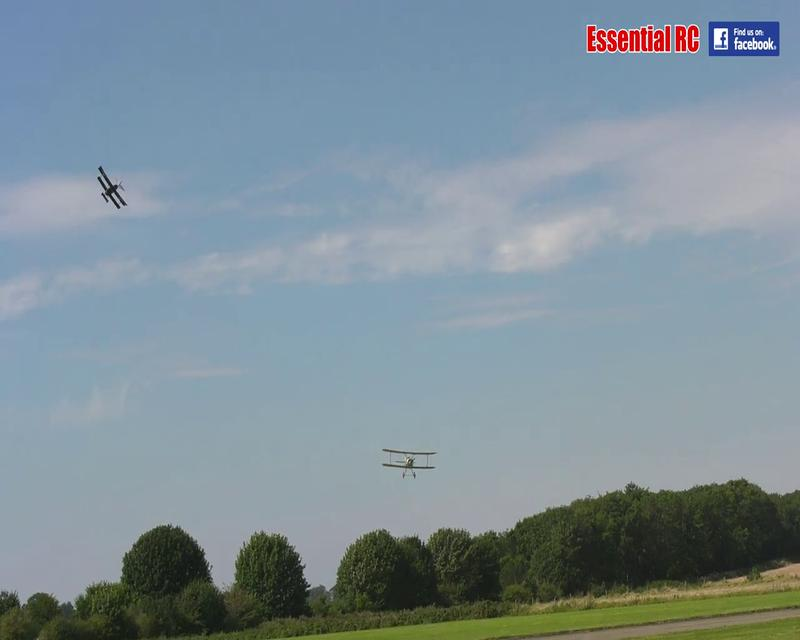UAV: (379, 442, 439, 480), (98, 164, 130, 211)
